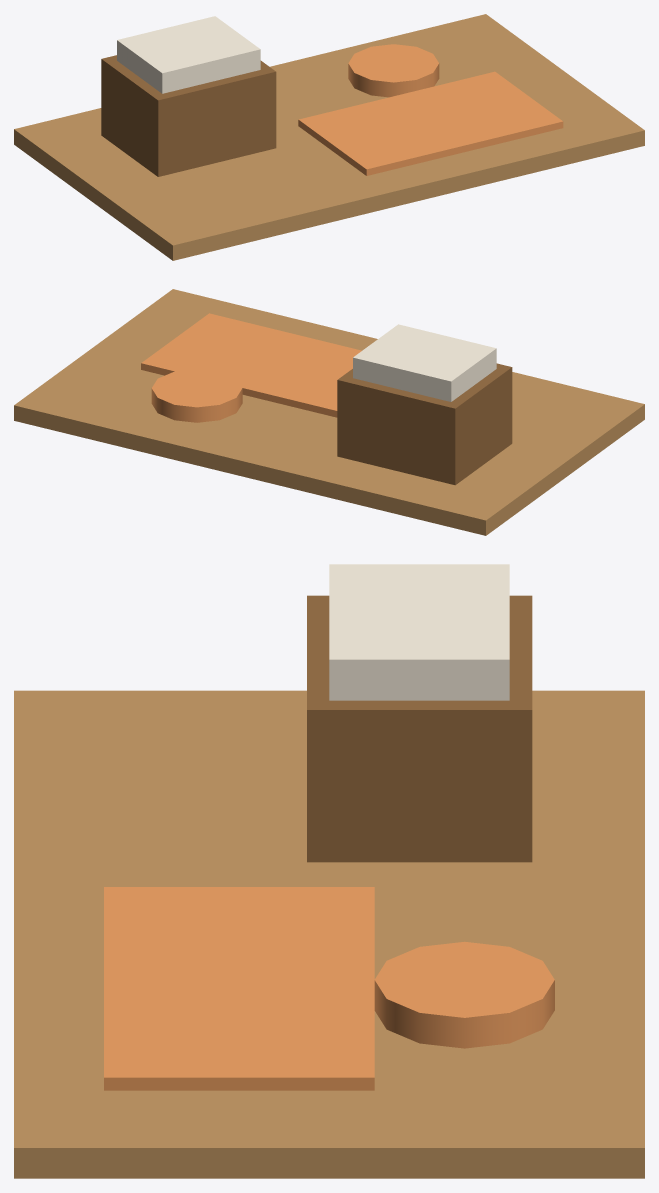
Rendered from picnic_set.glb.
The picture shows the model from 3 angles, top to bottom: view 1: azimuth 30°, elevation 25°; view 2: azimuth 150°, elevation 25°; view 3: azimuth 270°, elevation 25°; orthographic projection. The views are drawn at different scales.
Visible parts, largest first — view 1: picnic_set; view 2: picnic_set; view 3: picnic_set.
Boxes of the visible parts, x1,y1,x2,y2 form: picnic_set: (14, 14, 644, 260); picnic_set: (14, 289, 644, 535); picnic_set: (14, 564, 644, 1178).
Bounding box in the file's own units: 48 × 10.95 × 28.
